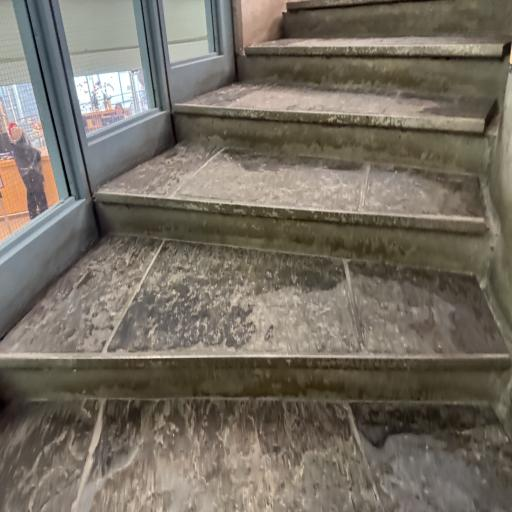Stairs: (0, 0, 512, 512), (0, 235, 511, 401), (0, 398, 512, 512), (96, 144, 492, 275), (174, 83, 498, 173), (238, 35, 510, 105), (283, 0, 512, 38)
